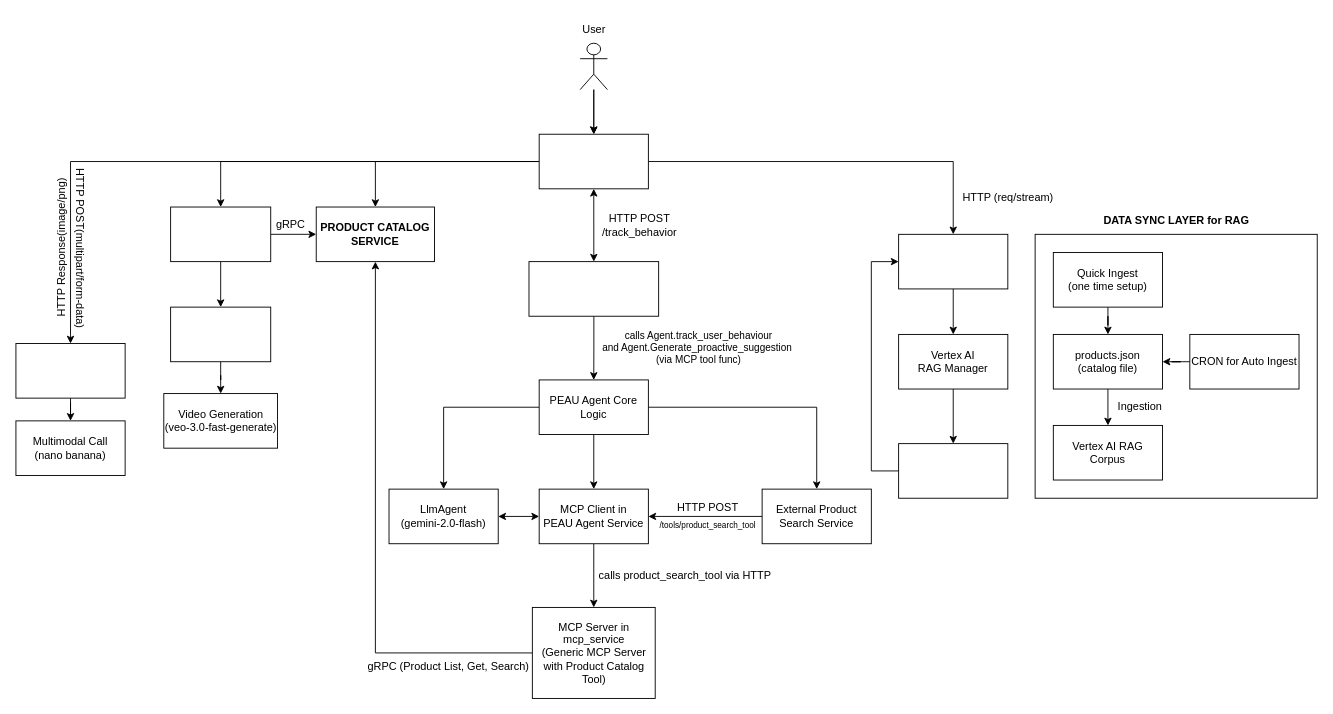
This 1333x714 diagram has some shape labels left out. The shapes that lost their labels are listed below. From the top down, each one's centre as x and y in pixels, then its label:
At [593,161]: "FRONTEND".
At [220,234]: "VIDEO GENERATION SERVICE".
At [953,261]: "CHATBOT SERVICE (chatbot server)".
At [593,288]: "MCP Server in PEAU AGENT SERVICE".
At [220,334]: "Ad Scripting (gemini-2.0-flash Multimodal)".
At [70,370]: "TRY ON SERVICE (FastAPI)".
At [953,470]: "LLM Model (gemini-2.0-flash)".
